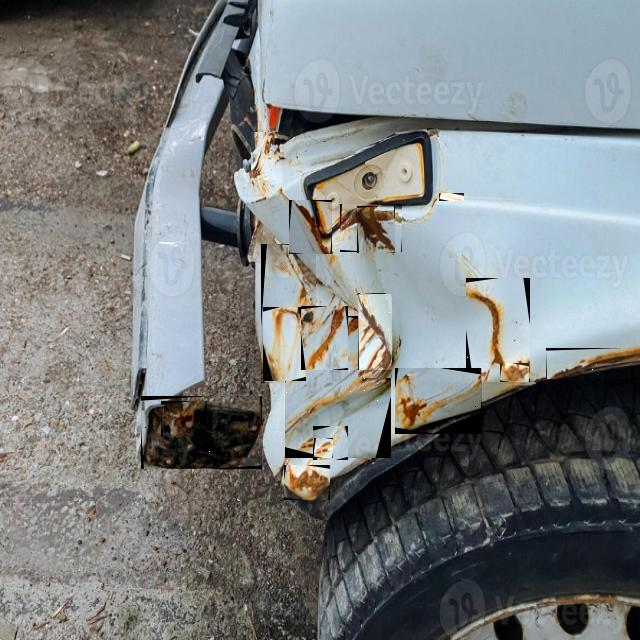Rust: (285, 356, 390, 435), (144, 398, 261, 468), (261, 245, 315, 382), (466, 283, 529, 379), (396, 375, 480, 429), (340, 205, 401, 251), (551, 348, 639, 378), (358, 294, 391, 369), (306, 306, 345, 369), (267, 307, 299, 380), (294, 202, 329, 253), (357, 207, 394, 251), (397, 382, 429, 432), (161, 401, 205, 435), (286, 465, 329, 499), (251, 132, 278, 179), (360, 293, 384, 343), (358, 344, 391, 377), (319, 426, 345, 459), (405, 403, 429, 431), (502, 364, 528, 381), (314, 440, 332, 457), (441, 193, 463, 200), (427, 130, 438, 136)
